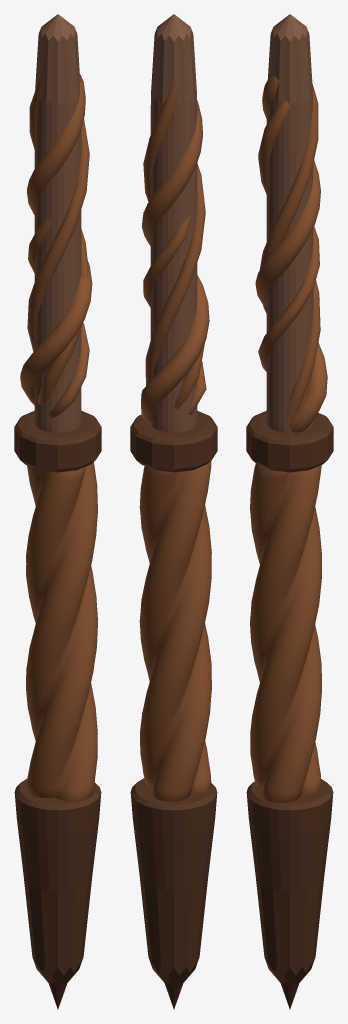
Rendered from Wand 872.glb.
3 views of the same model, side by side, from view 1: azimuth 90°, elevation 25°; view 2: azimuth 150°, elevation 25°; view 3: azimuth 270°, elevation 25° (orthographic).
Parts seen in each view (by area): view 1: GeneratedWand; view 2: GeneratedWand; view 3: GeneratedWand.
Part boxes in pixels (x1,y1,x2,y2): GeneratedWand: [14, 14, 101, 1009]; GeneratedWand: [130, 14, 217, 1009]; GeneratedWand: [246, 14, 333, 1009].
Size of the model in its own units: 0.0398 by 0.4997 by 0.0398.
